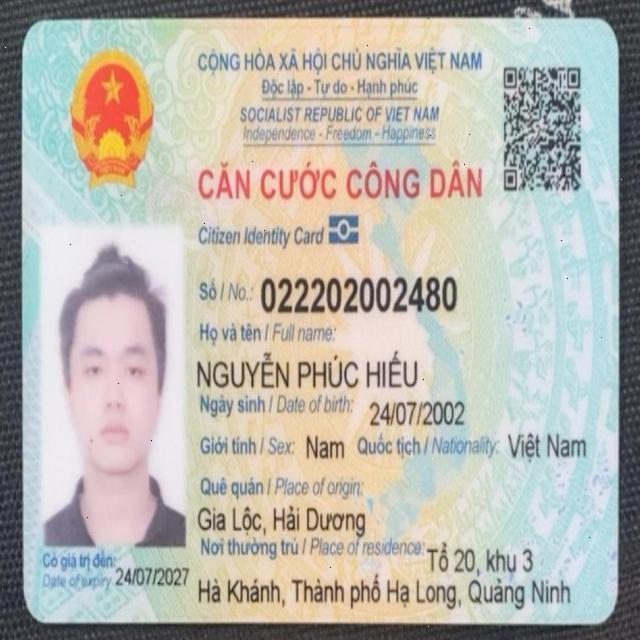current_place: (195, 571, 576, 615), (423, 535, 539, 578)
dob: (366, 389, 471, 434)
expire_date: (111, 562, 192, 592)
gender: (304, 429, 348, 465)
id: (259, 271, 459, 315)
name: (192, 348, 421, 392)
nationality: (505, 429, 590, 466)
origin_place: (197, 501, 369, 539)
